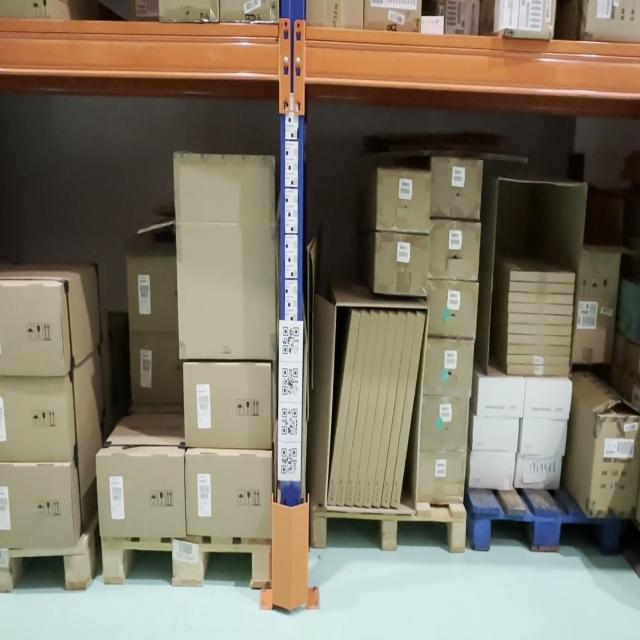box: (177, 223, 275, 358), (185, 363, 272, 447), (363, 312, 399, 508), (186, 453, 271, 536), (345, 312, 380, 511), (391, 313, 426, 509), (372, 313, 407, 509), (101, 455, 183, 538), (382, 313, 417, 507), (354, 312, 388, 507), (335, 313, 369, 506), (327, 311, 360, 507), (572, 248, 621, 363), (0, 466, 70, 546), (0, 378, 68, 460), (0, 286, 60, 375), (590, 417, 640, 521), (129, 329, 183, 405), (128, 253, 177, 331), (379, 172, 428, 232), (374, 238, 429, 290), (429, 223, 480, 275), (433, 160, 477, 216), (428, 341, 470, 396), (418, 452, 462, 503), (429, 286, 477, 332), (423, 398, 465, 450), (520, 418, 567, 457), (515, 453, 561, 489), (480, 380, 523, 417), (527, 380, 568, 418), (472, 420, 519, 450), (472, 454, 512, 489), (508, 302, 573, 316), (509, 280, 574, 293), (511, 270, 575, 283), (507, 364, 570, 377), (508, 313, 572, 325), (509, 324, 572, 336), (509, 292, 574, 303), (507, 334, 571, 345), (507, 343, 571, 354), (506, 354, 569, 365)
